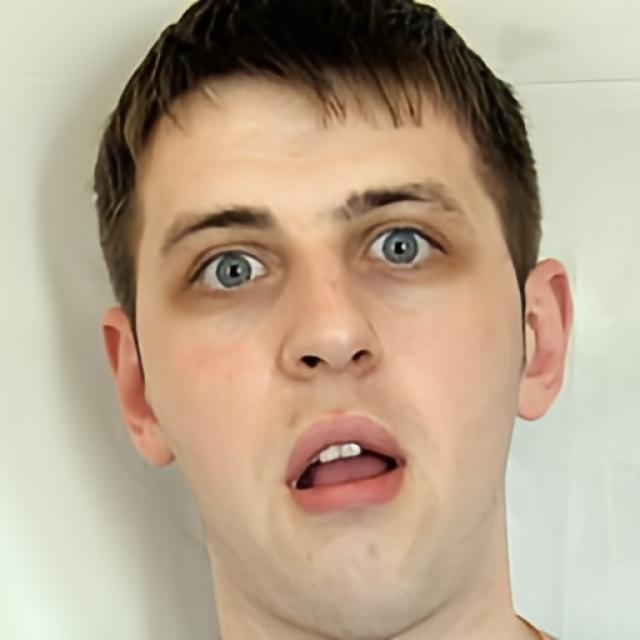surprise: (135, 71, 521, 640)
